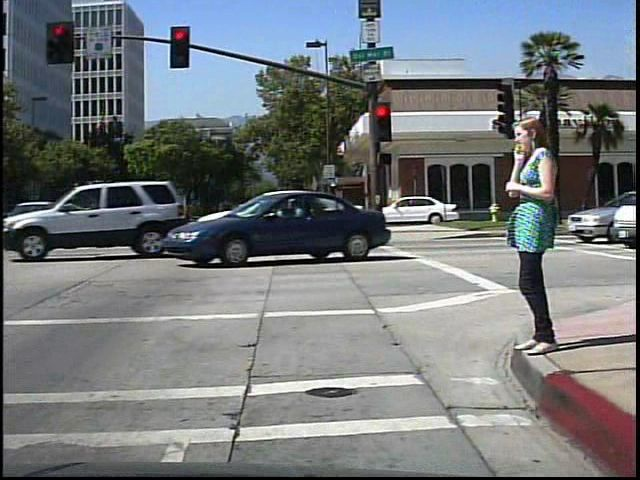person: (501, 108, 563, 365)
